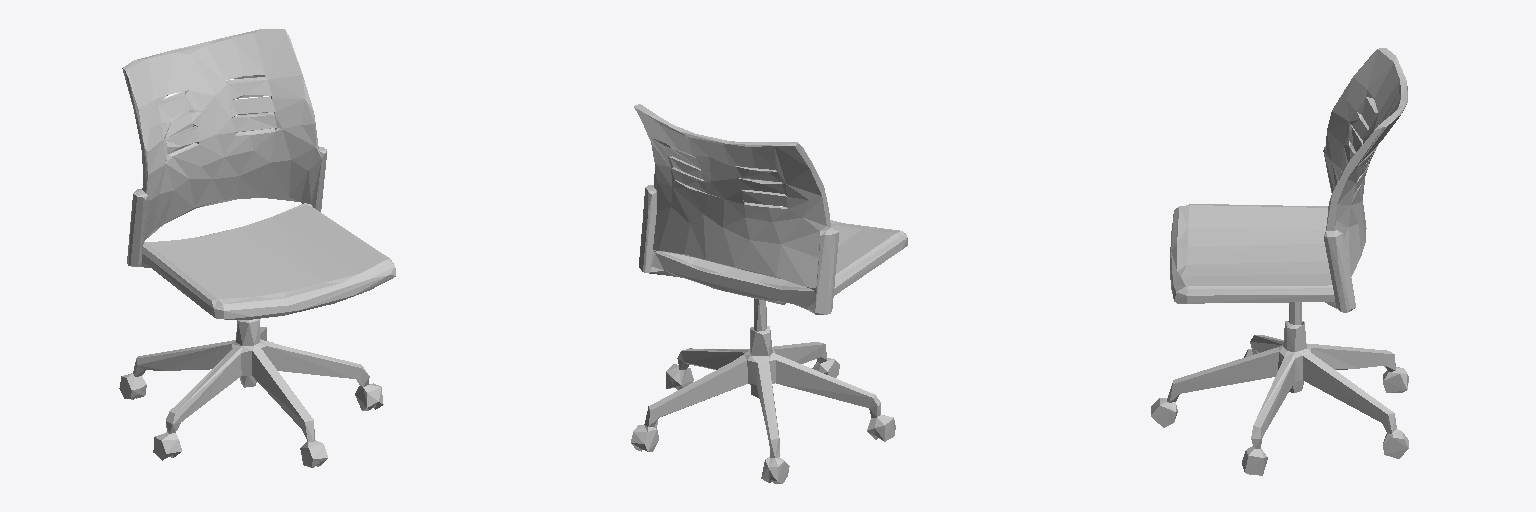
File: silla_10.obj
The picture shows the model from 3 angles: view 1: azimuth 30°, elevation 25°; view 2: azimuth 150°, elevation 25°; view 3: azimuth 270°, elevation 25°; orthographic projection.
Visible parts, largest first — view 1: model.001_Material.002, model_Material.003; view 2: model.001_Material.002, model_Material.003; view 3: model.001_Material.002, model_Material.003.
Part boxes in pixels (left/top/right/bottom): model.001_Material.002: left=122, top=29, right=395, bottom=319; model_Material.003: left=119, top=319, right=383, bottom=467; model.001_Material.002: left=634, top=104, right=907, bottom=314; model_Material.003: left=631, top=326, right=895, bottom=483; model.001_Material.002: left=1170, top=48, right=1407, bottom=312; model_Material.003: left=1151, top=321, right=1408, bottom=475.
Size of the model in its own units: 1.3 by 1.91 by 1.33.